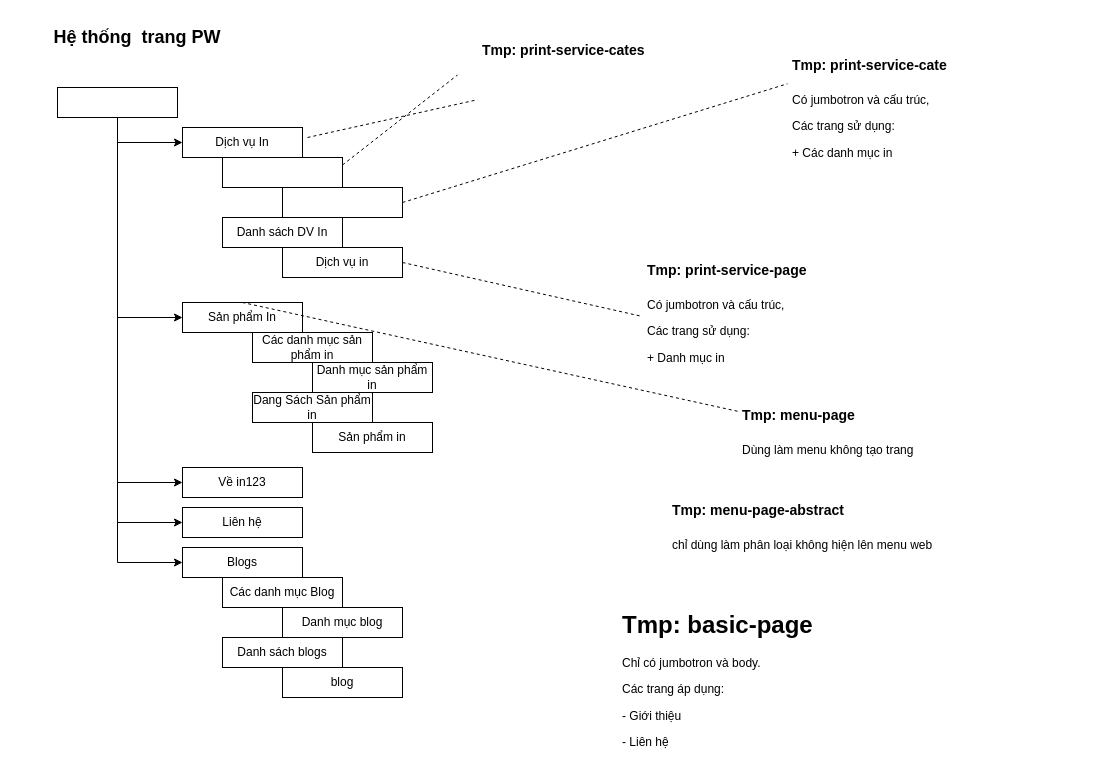
Image size: 1094x777. Some labels were removed from this diagram. The box of each missing label's shape, as (x1, y1, x2, y2) in pixels:
Các danh mục in: (222, 156, 342, 188)
Danh mục in: (282, 186, 402, 218)
Trang chủ (root): (56, 86, 178, 118)
